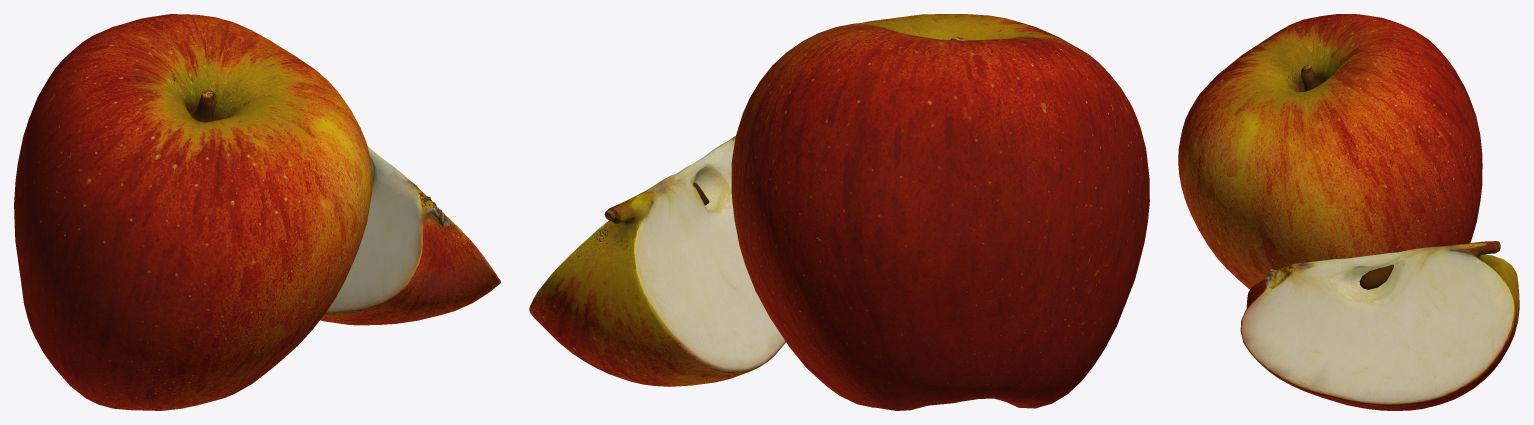
The model's file is Apple.glb.
3 renders of one model, left to right at view 1: azimuth 30°, elevation 25°; view 2: azimuth 150°, elevation 25°; view 3: azimuth 270°, elevation 25°, orthographic. The views are drawn at different scales.
Visible parts, largest first — view 1: AppleSliceSeed02; view 2: AppleSliceSeed02; view 3: AppleSliceSeed02.
Part boxes in pixels (x1,y1,x2,y2): AppleSliceSeed02: (14, 14, 500, 410); AppleSliceSeed02: (529, 14, 1149, 410); AppleSliceSeed02: (1178, 14, 1519, 410).
Size of the model in its own units: 11.93 by 8.33 by 9.32.
2 materials, 2 textured.
